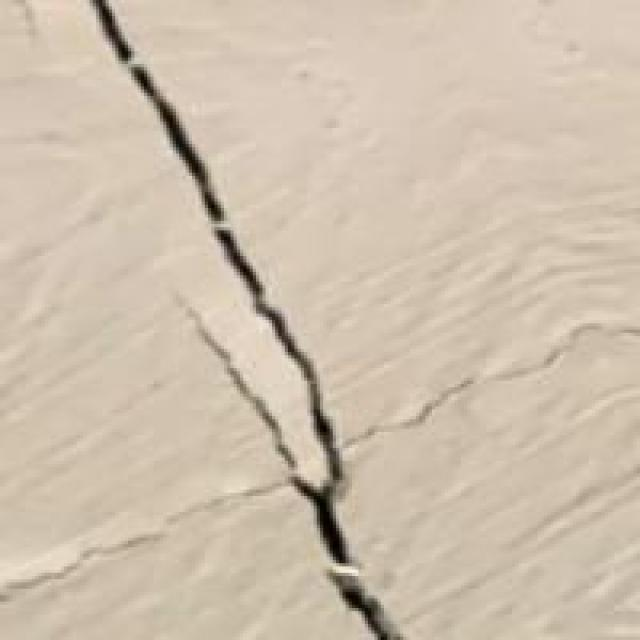Crack: (52, 0, 470, 637)
